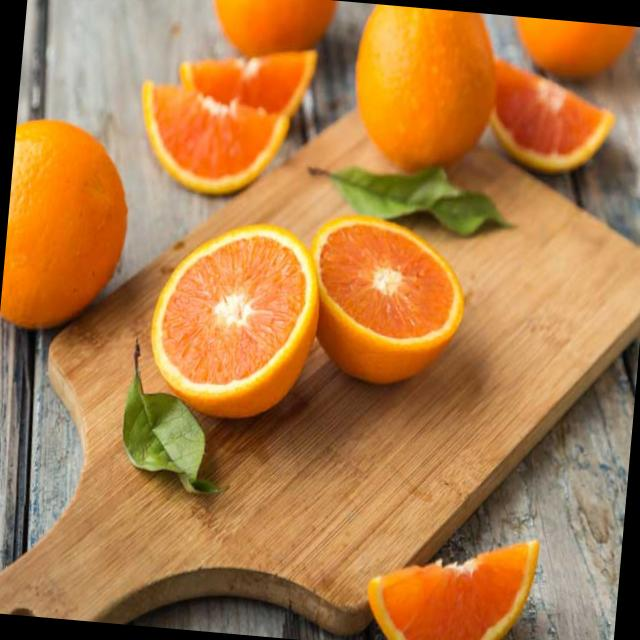orange: (344, 2, 514, 182), (0, 115, 129, 329)
